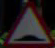Speed Breaker ahead: (8, 4, 51, 43)
